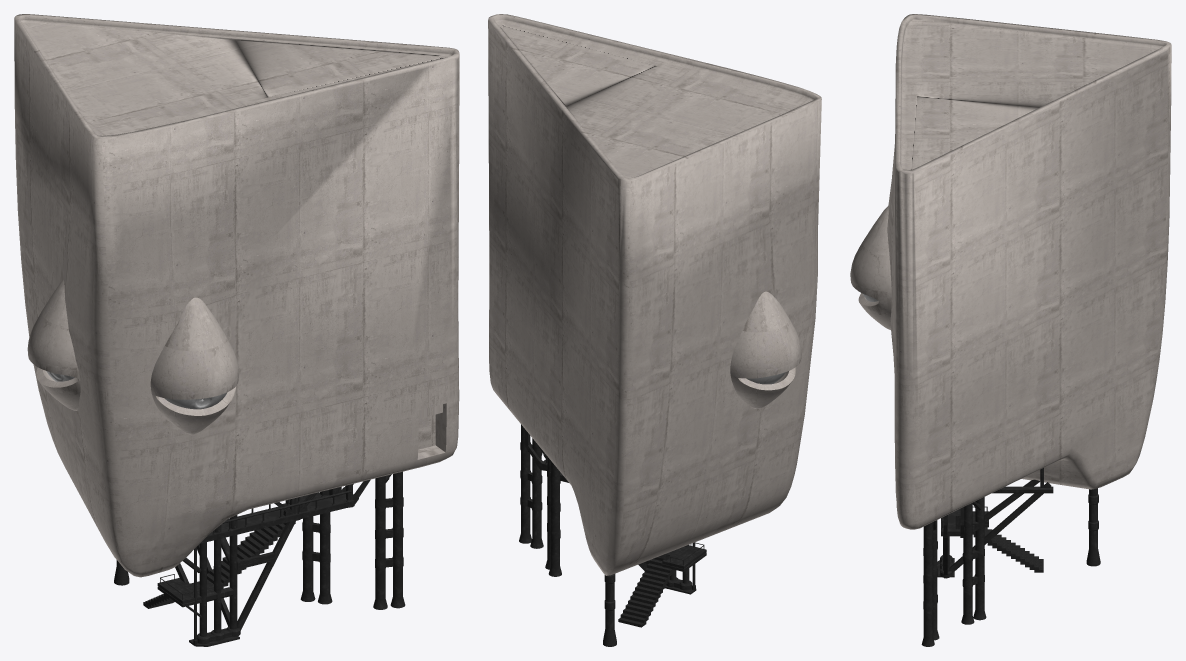
Rendered from facearch.glb.
3 renders of one model, left to right at view 1: azimuth 30°, elevation 25°; view 2: azimuth 150°, elevation 25°; view 3: azimuth 270°, elevation 25°, orthographic. The views are drawn at different scales.
Parts seen in each view (by area): view 1: polySurface119, Default1, Eyeball:Default, polySurface82, polySurface83, pCube16, polySurface86, polySurface98, polySurface85, polySurface84, pCube22, Eyeballs2; view 2: polySurface119, Eyeball:Default, polySurface82, polySurface83, polySurface109, pCube22; view 3: polySurface119, Default1, polySurface83, polySurface82, polySurface109, polySurface103.
Boxes of the visible parts, x1,y1,x2,y2 form: polySurface119: (14,14,459,577); Default1: (150,297,238,434); Eyeball:Default: (27,279,80,410); polySurface82: (373,471,405,609); polySurface83: (300,490,332,604); pCube16: (200,494,354,543); polySurface86: (226,515,240,636); polySurface98: (237,520,296,630); polySurface85: (211,525,224,640); polySurface84: (197,542,209,644); pCube22: (157,578,201,607); Eyeballs2: (46,371,227,409); polySurface119: (488,14,821,575); Eyeball:Default: (730,291,801,408); polySurface82: (519,424,543,548); polySurface83: (545,456,561,576); polySurface109: (603,574,616,646); pCube22: (662,545,706,571); polySurface119: (887,14,1171,529); Default1: (850,206,891,329); polySurface83: (961,497,986,624); polySurface82: (921,520,939,646); polySurface109: (1086,488,1100,566); polySurface103: (948,482,1051,572).
Size of the model in its own units: 22.31 by 31.1 by 18.3.
Materials: 3 (3 with a texture image).
